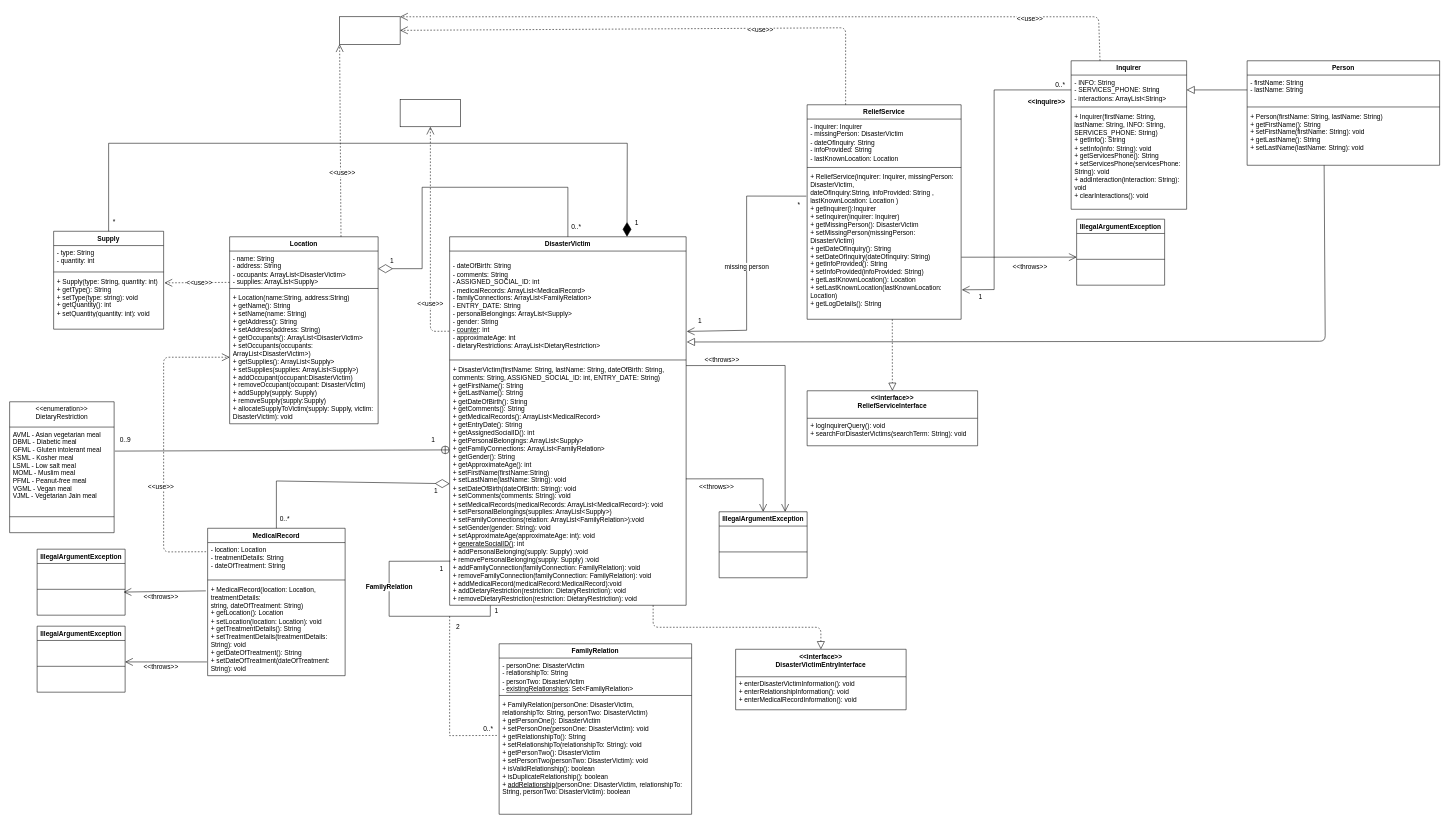
Image size: 1449x826. Some labels were removed from this diagram. Each missing label, with the box of its shape:
«Database» project.sql: (339, 16, 400, 44)
«File» GenderOptions.txt: (400, 99, 461, 127)
